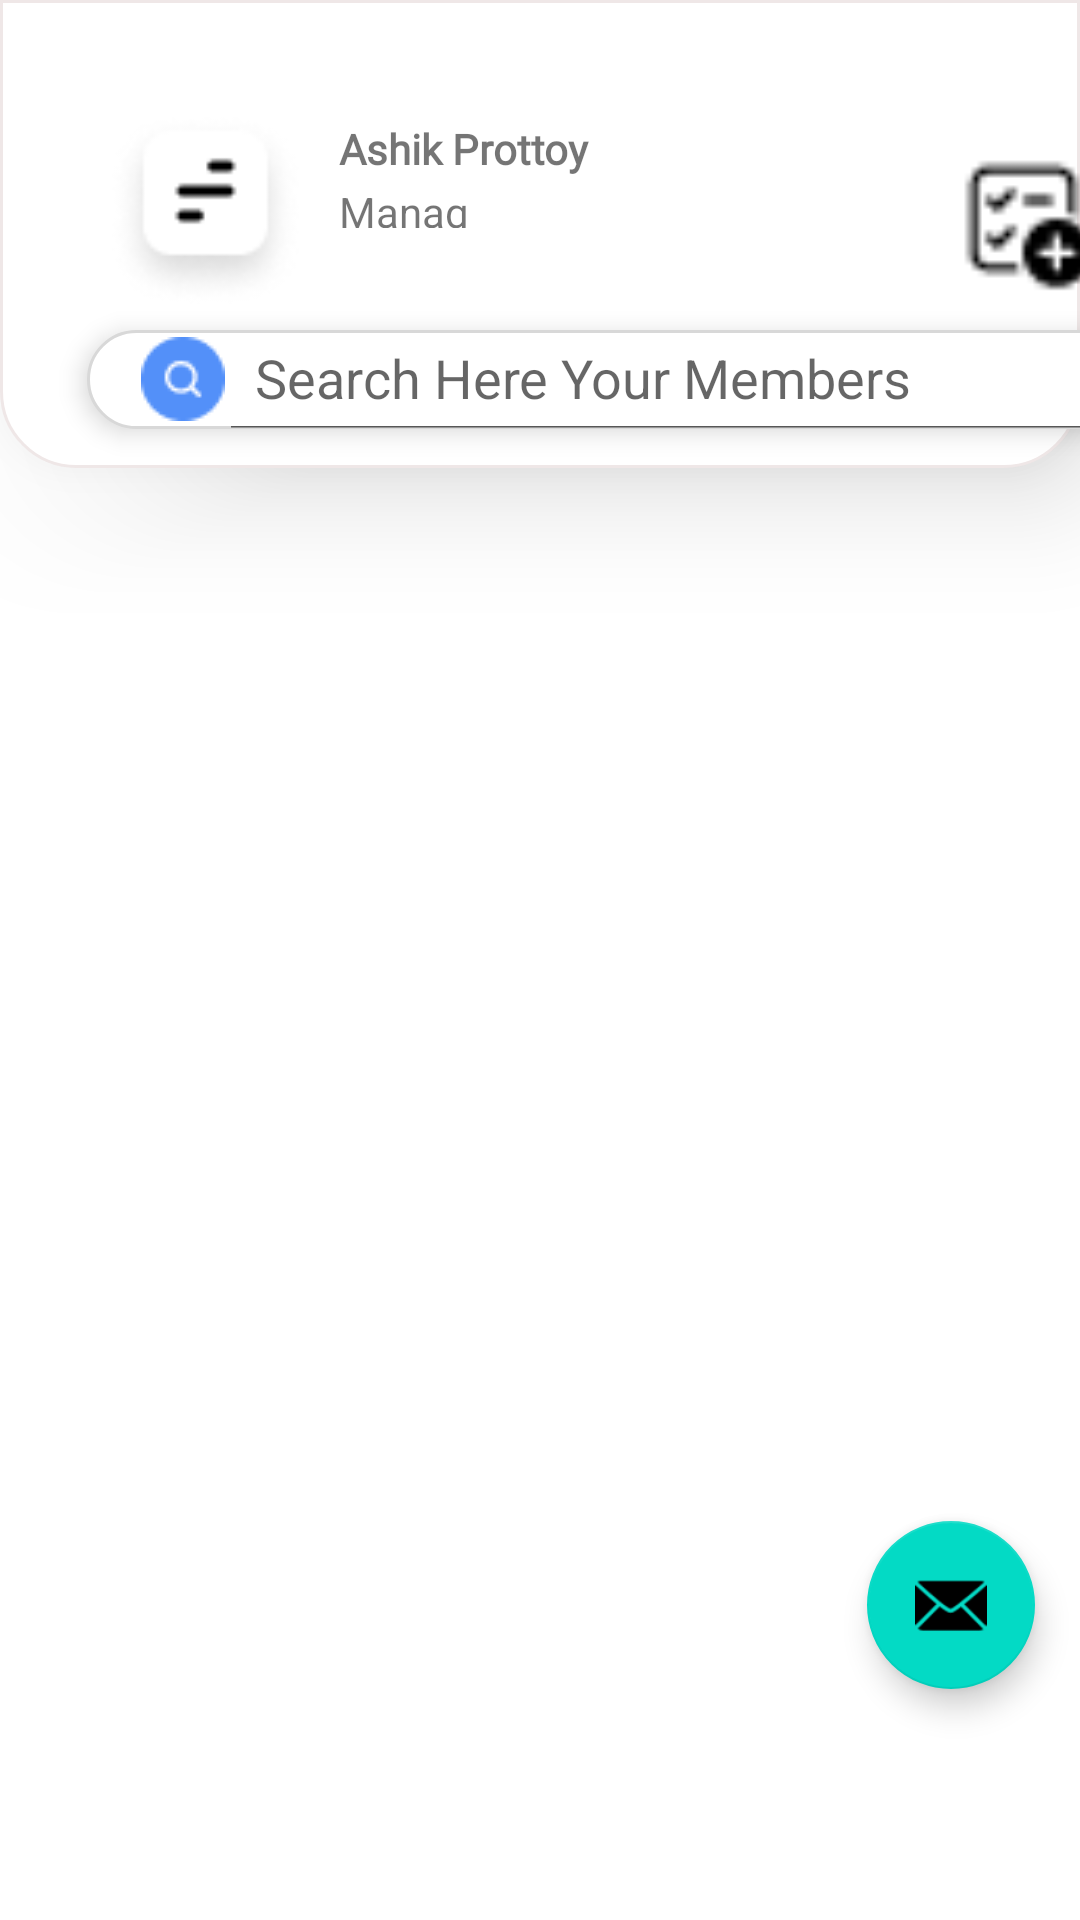

Icons on this 1080 x 1920 Android screen, each with its box as BBox(x1, y1, x2, y2):
email: BBox(867, 1521, 1035, 1689)
hamburger alternatives: BBox(160, 158, 251, 268)
